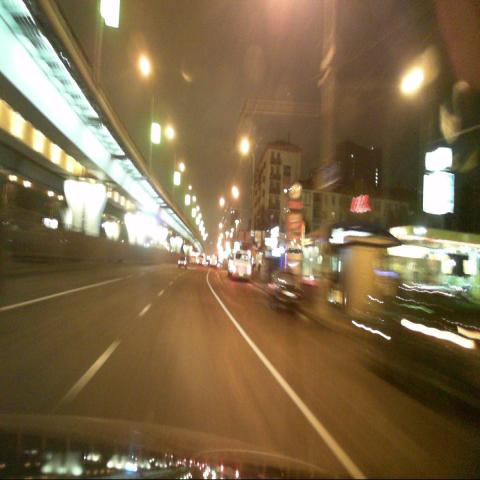6_6: (326, 162, 341, 188)
